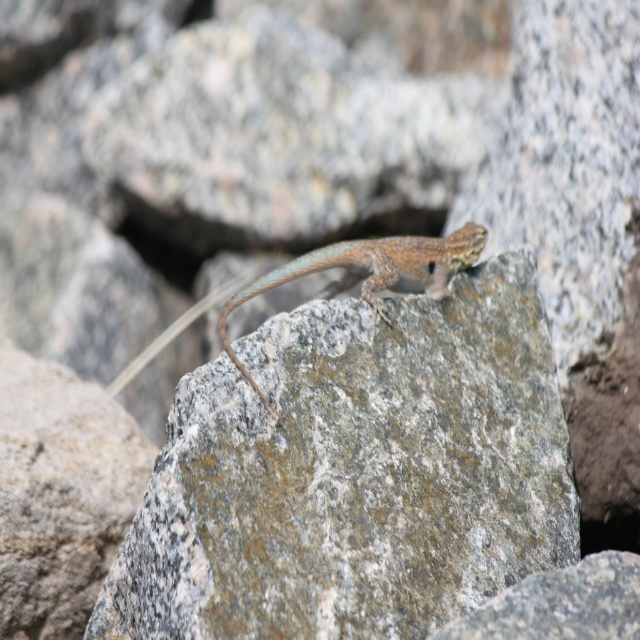Lizard: (138, 220, 496, 455)
